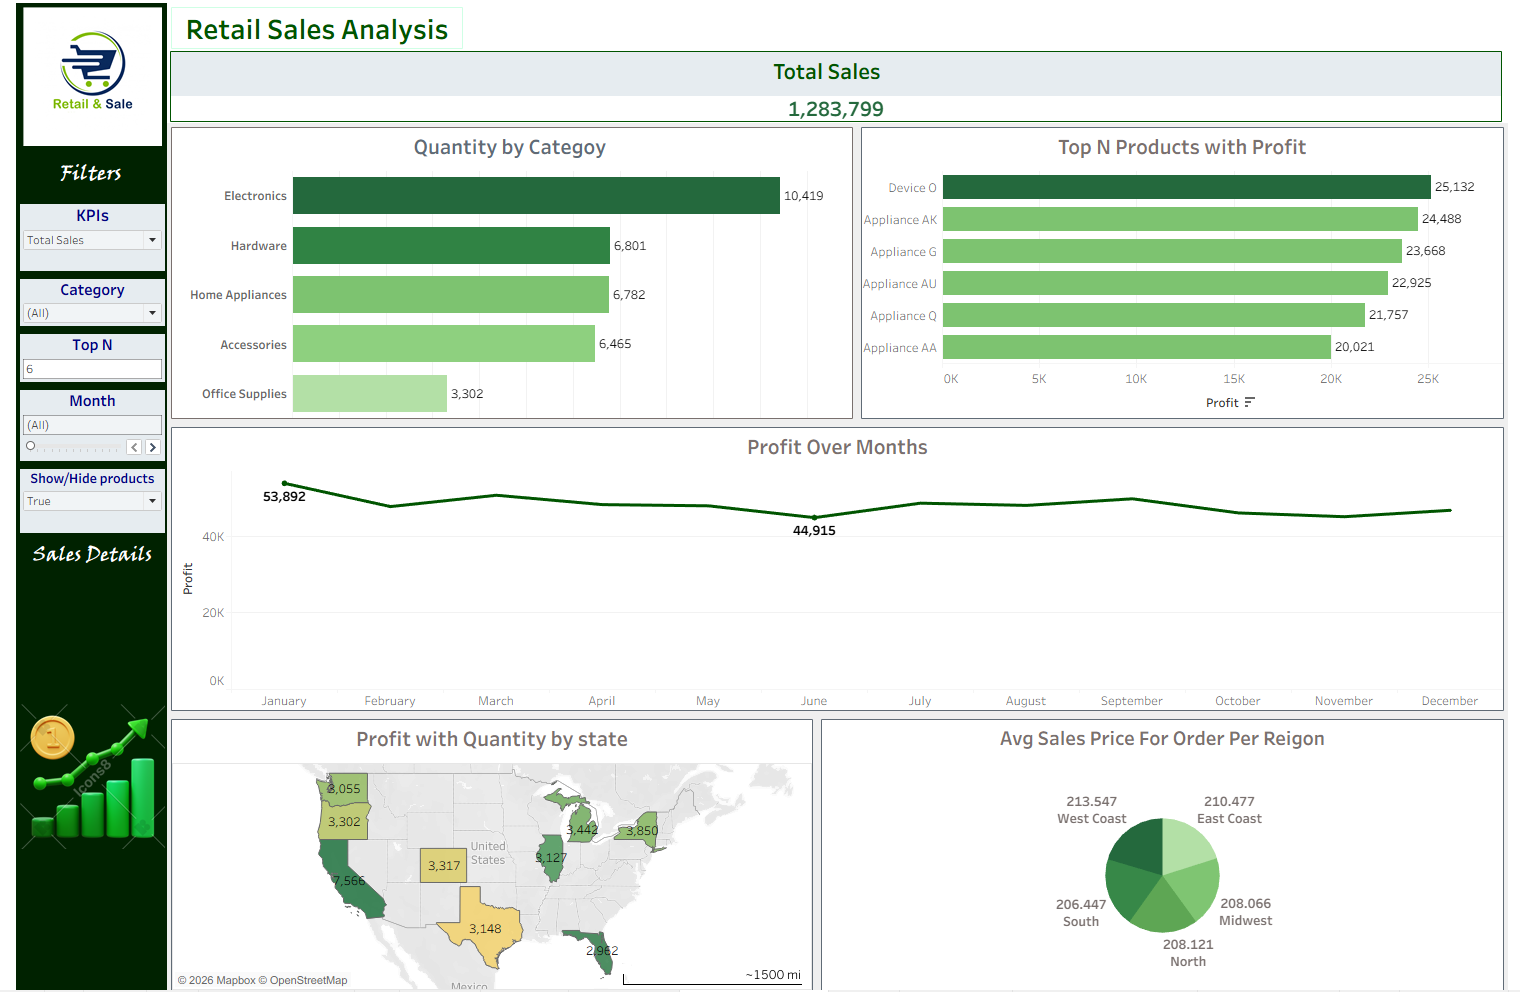

The page's visual inventory and layout, read from the dashboard file:
{"tool":"tableau","page":{"name":"Retail Analysis","canvas":[1500,1100],"ordinal":2},"visuals":[{"type":"image","param":"C:/Users/Mohamed/Downloads/rt.png","box":[12,12.8,264,100]},{"type":"text","box":[276,12.8,1177,100]},{"type":"filter","title":"Quantity by Category","param":"[federated.0udoxu00153jbq1d0ggg5180dox5].[none:Category:nk]","box":[12,112.8,400,77]},{"type":"filter","title":"Profit Over Months","param":"[federated.0udoxu00153jbq1d0ggg5180dox5].[mn:Date:ok]","box":[412,112.8,350,77]},{"type":"filter","title":"Avg Sales Price For Order Per Reigon","param":"[federated.0udoxu00153jbq1d0ggg5180dox5].[none:Region:nk]","box":[762,112.8,350,77]},{"type":"filter","title":"Quantity by Category","param":"[federated.0udoxu00153jbq1d0ggg5180dox5].[sum:Calculation_0986580663074831:qk]","box":[1112,112.8,85.2,77]},{"type":"parameter","param":"[Parameters].[Parameter 1]","box":[1197.2,112.8,85.2,77]},{"type":"parameter","param":"[Parameters].[Parameter 2]","box":[1282.5,112.8,85.2,77]},{"type":"parameter","param":"[Parameters].[Parameter 3]","box":[1367.7,112.8,85.3,77]},{"type":"worksheet","title":"KPIs","mark":"Automatic","box":[12,315,1441,85]},{"type":"worksheet","title":"Quantity by Category","mark":"Automatic","rows":["Category"],"cols":["Quantity"],"box":[12,400,690,262]},{"type":"worksheet","title":"top 5 product With Profit","mark":"Automatic","rows":["Product_Name"],"cols":["Calculation_0986580660813838"],"box":[702,400,751,262]},{"type":"worksheet","title":"Profit with Quantity by state","mark":"Automatic","box":[12,662,797,300]},{"type":"worksheet","title":"Avg Sales Price For Order Per Reigon","mark":"Pie","box":[809,662,644,300]},{"type":"worksheet","title":"Profit Over Months","mark":"Automatic","rows":["Calculation_0986580660813838"],"cols":["Date"],"box":[12,962,1441,125.2]}]}

Visuals, with their boxes on the page's 1500x1100 design canvas (x1, y1, x2, y2). These are canvas units, not pixel positions in the 1520x992 screenshot, which may show the page scaled, cropped or inside an application window:
image: Rect(12, 13, 276, 113)
text: Rect(276, 13, 1453, 113)
"Quantity by Category" filter: Rect(12, 113, 412, 190)
"Profit Over Months" filter: Rect(412, 113, 762, 190)
"Avg Sales Price For Order Per Reigon" filter: Rect(762, 113, 1112, 190)
"Quantity by Category" filter: Rect(1112, 113, 1197, 190)
parameter: Rect(1197, 113, 1282, 190)
parameter: Rect(1282, 113, 1368, 190)
parameter: Rect(1368, 113, 1453, 190)
"KPIs" worksheet: Rect(12, 315, 1453, 400)
"Quantity by Category" worksheet: Rect(12, 400, 702, 662)
"top 5 product With Profit" worksheet: Rect(702, 400, 1453, 662)
"Profit with Quantity by state" worksheet: Rect(12, 662, 809, 962)
"Avg Sales Price For Order Per Reigon" worksheet (Pie marks): Rect(809, 662, 1453, 962)
"Profit Over Months" worksheet: Rect(12, 962, 1453, 1087)
